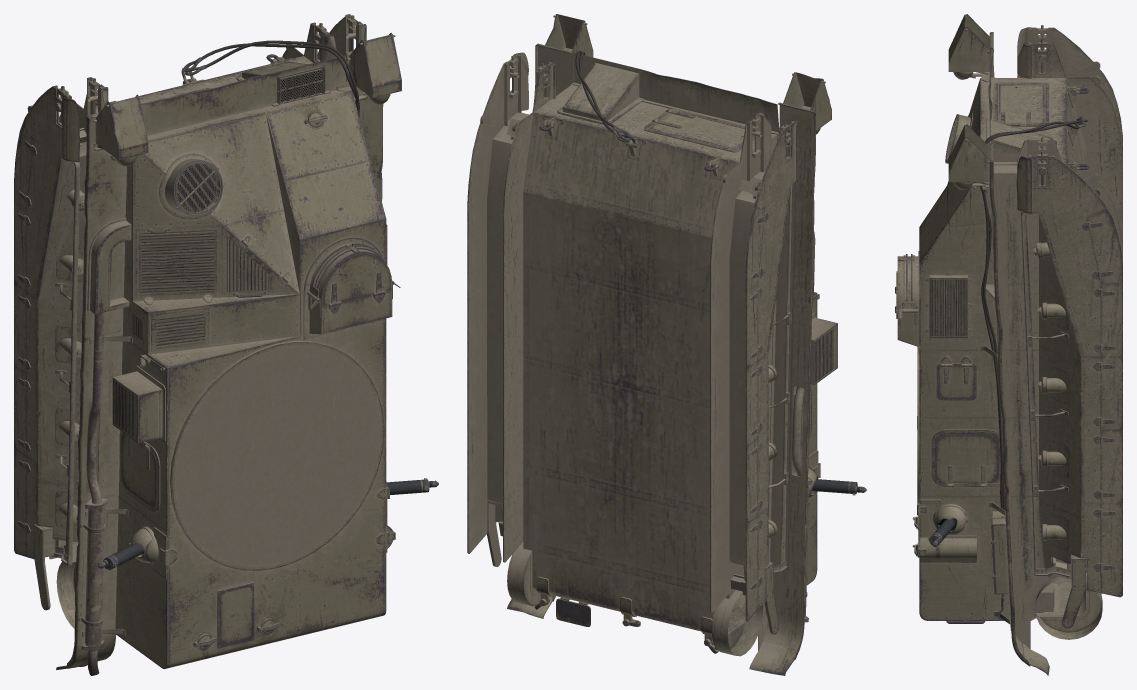
The model's file is Hull.glb.
3 renders of one model, left to right at view 1: azimuth 30°, elevation 25°; view 2: azimuth 150°, elevation 25°; view 3: azimuth 270°, elevation 25°, orthographic. The views are drawn at different scales.
Visible parts, largest first — view 1: set_0_group_0; view 2: set_0_group_0; view 3: set_0_group_0.
Part boxes in pixels (x1,y1,x2,y2): set_0_group_0: (14, 14, 438, 675); set_0_group_0: (467, 14, 866, 675); set_0_group_0: (895, 14, 1122, 675).
Size of the model in its own units: 3.18 by 5.38 by 2.07.
Materials: 1 (1 with a texture image).
